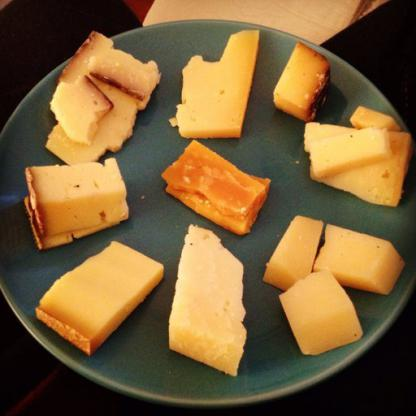parmesan cheese: (36, 239, 164, 354), (170, 224, 244, 380), (16, 162, 134, 240), (306, 121, 413, 206), (175, 28, 255, 134), (280, 270, 362, 356), (320, 218, 403, 296), (310, 128, 394, 182), (264, 216, 319, 294)
